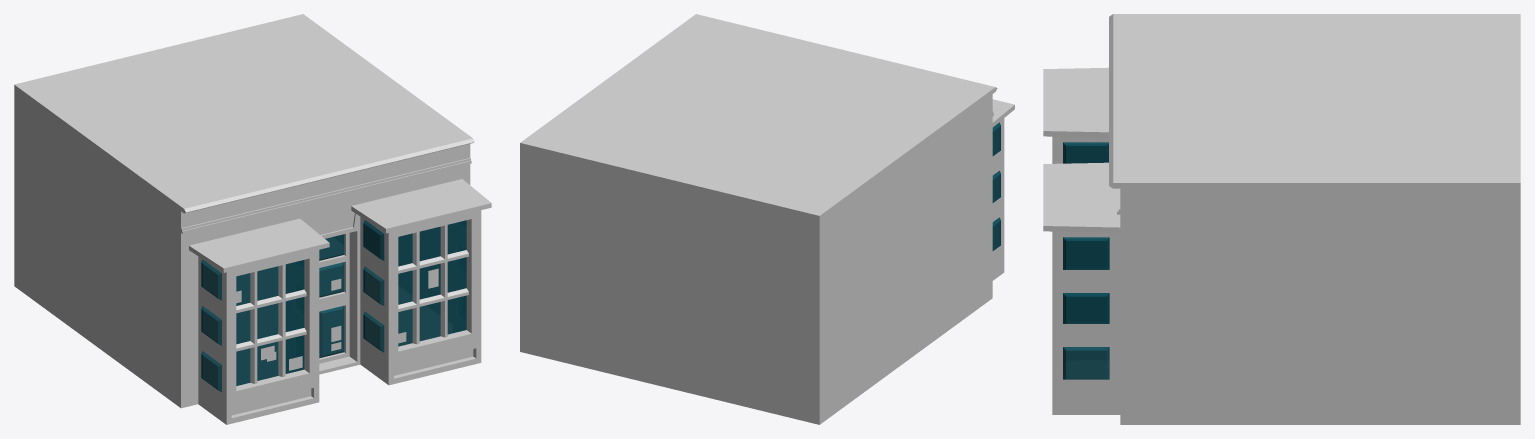
The model's file is building_shop_03.fbx.
3 views of the same model, side by side, from view 1: azimuth 30°, elevation 25°; view 2: azimuth 150°, elevation 25°; view 3: azimuth 270°, elevation 25° (orthographic). The views are drawn at different scales.
Parts seen in each view (by area): view 1: building_shop_03, building_shop_03_glass; view 2: building_shop_03, building_shop_03_glass; view 3: building_shop_03, building_shop_03_glass.
Boxes of the visible parts, x1=… form: building_shop_03: x1=14, y1=14, x2=491, y2=424; building_shop_03_glass: x1=201, y1=220, x2=466, y2=391; building_shop_03: x1=520, y1=14, x2=1014, y2=424; building_shop_03_glass: x1=992, y1=122, x2=1000, y2=250; building_shop_03: x1=1043, y1=14, x2=1520, y2=424; building_shop_03_glass: x1=1063, y1=142, x2=1109, y2=379.
Size of the model in its own units: 600 by 400 by 716.
